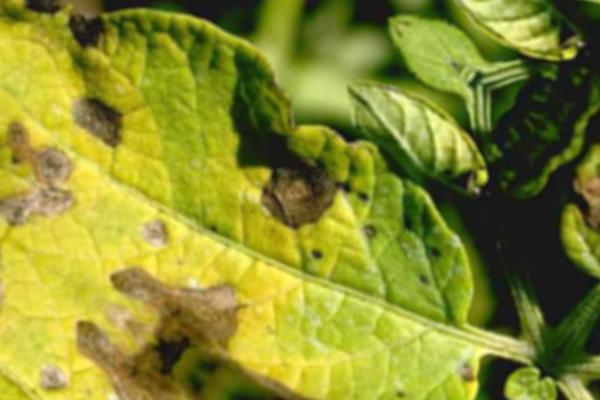Tomato Early blight leaf: (0, 0, 571, 400)
